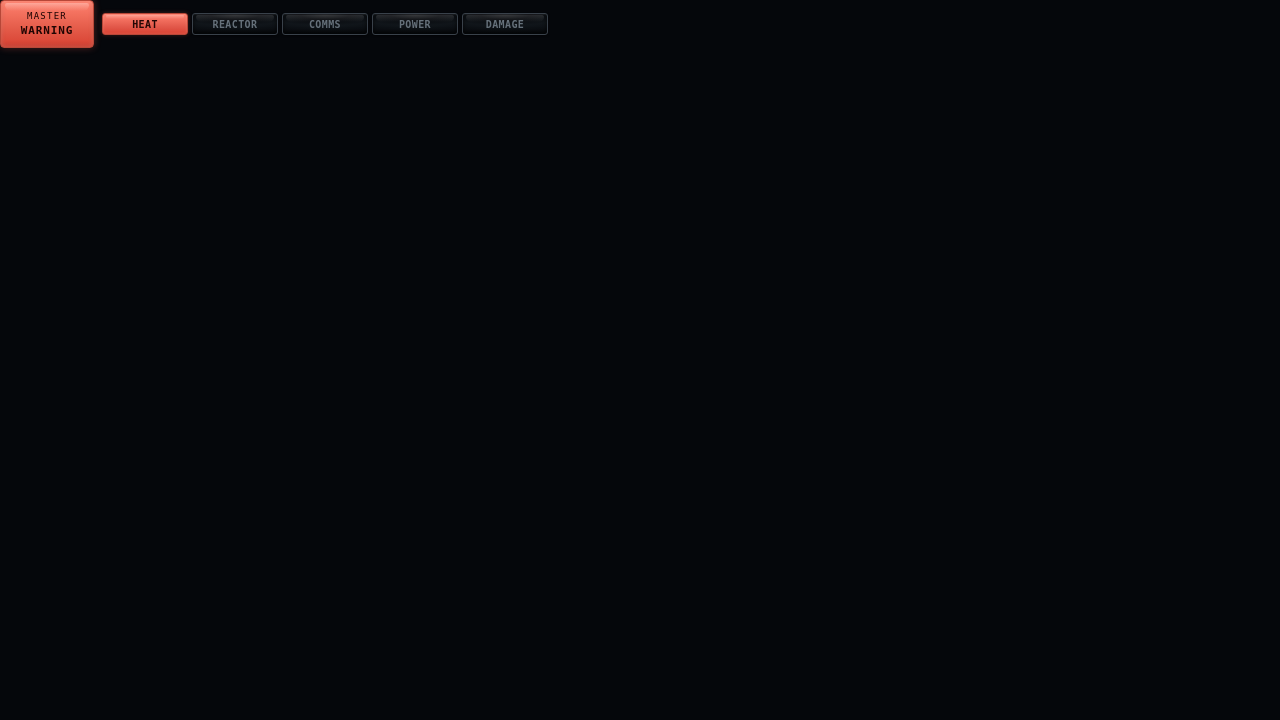
Test: Flight annunciator surface › keeps recorded loss history discoverable after DAMAGE clears
What coordinates should you click on to do the following:
click the button with aria-label "DAMAGE clear. Show recorded part-loss history."
I would click on:
 (505, 24)
Its box is [462,13,548,35].
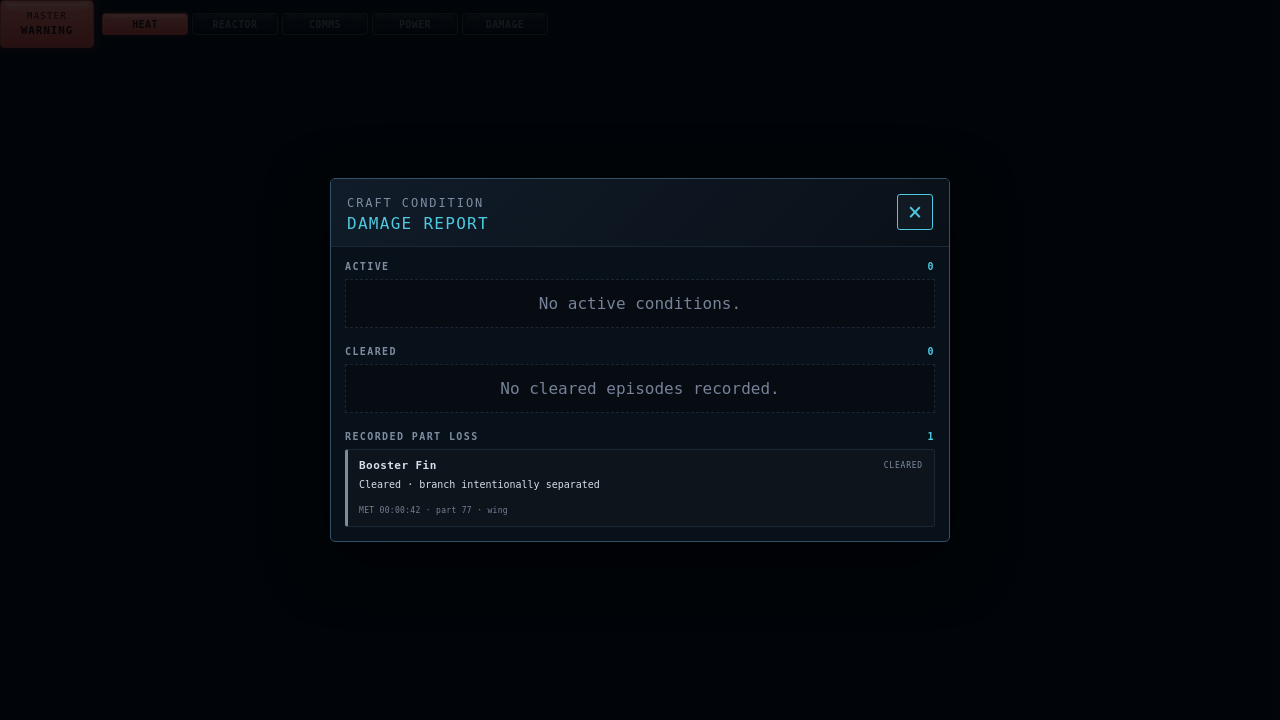
Now the dialog "Damage report" is shown, box [330,178,950,542]
Now the text "Booster Fin" is shown, box [359,459,437,472]
